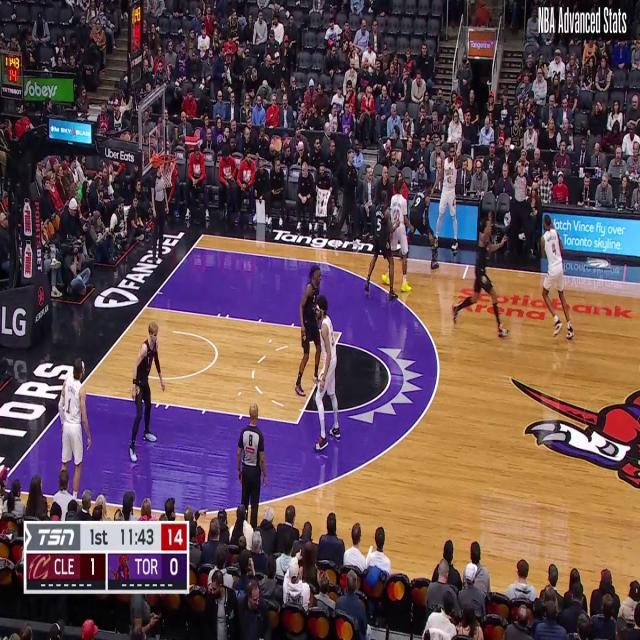judge: (236, 402, 270, 518), (151, 167, 170, 261)
player: (451, 212, 507, 337), (130, 321, 167, 458), (537, 211, 573, 340), (59, 360, 92, 488), (315, 305, 340, 448), (436, 140, 466, 259), (365, 193, 398, 299), (296, 269, 323, 395), (405, 180, 441, 272), (389, 174, 413, 290)
